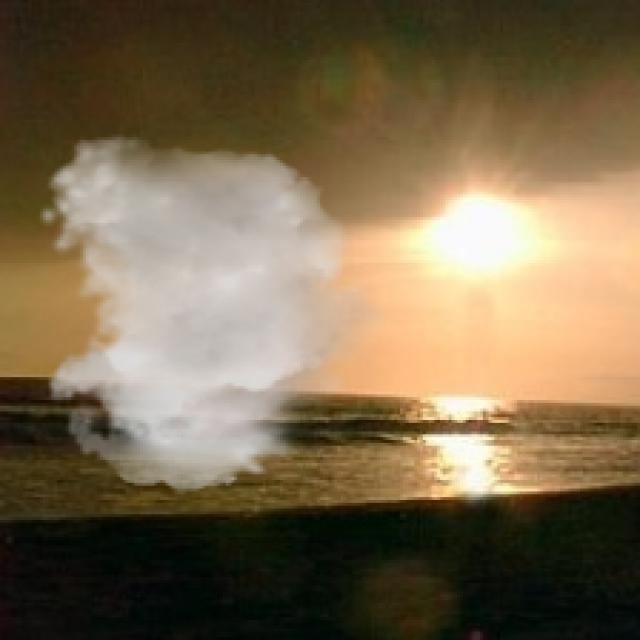Smoke: (37, 134, 394, 492)
